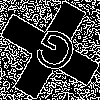G: (25, 25, 82, 84)
